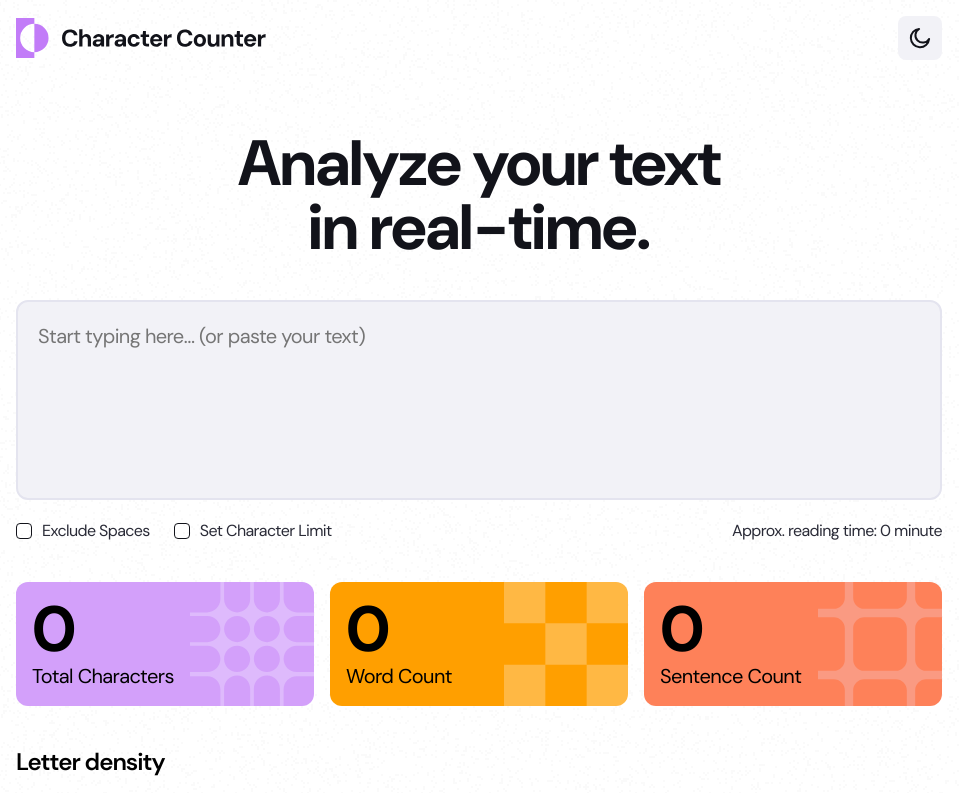
Test: App › should update statistics when typing in textarea
Type "Hello world." into the text box.
click(479, 400); type("Hello world.")  # box x1=16 y1=300 x2=942 y2=500
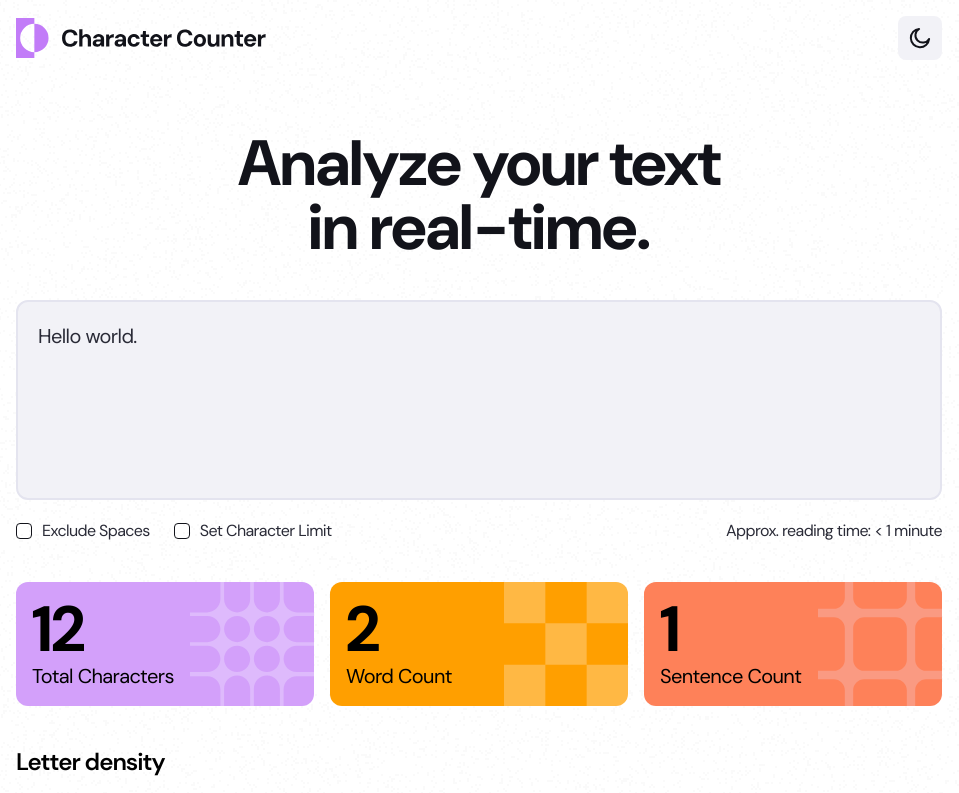
Result: the text "12" is shown at x1=32 y1=588 x2=85 y2=671
Result: the text "2" is shown at x1=346 y1=588 x2=379 y2=671
Result: the text "1" is shown at x1=660 y1=588 x2=679 y2=671
